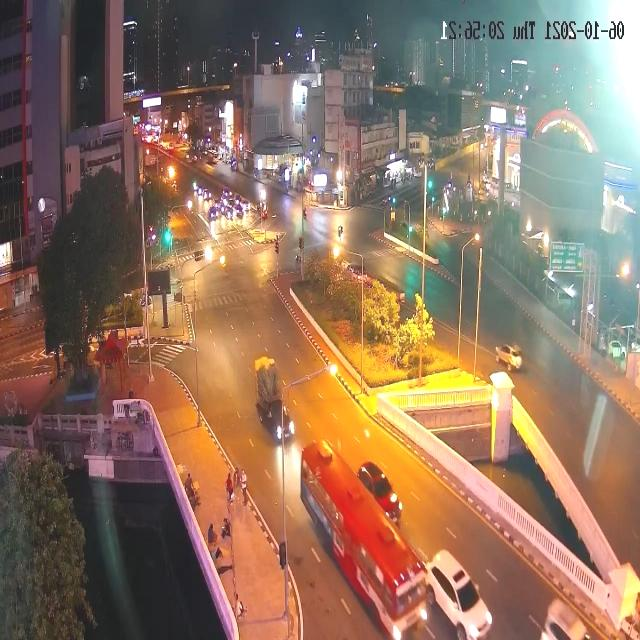Car: (427, 550, 492, 638), (358, 460, 403, 526), (541, 596, 590, 640), (495, 343, 523, 372), (344, 262, 372, 286), (482, 178, 498, 199), (237, 198, 251, 214), (139, 292, 153, 307), (208, 204, 220, 221), (233, 202, 244, 218), (403, 166, 415, 180), (201, 187, 212, 201), (412, 166, 422, 178), (225, 207, 235, 219), (482, 175, 491, 188), (222, 186, 232, 197), (214, 198, 219, 207)
Truck: (254, 356, 295, 442)
